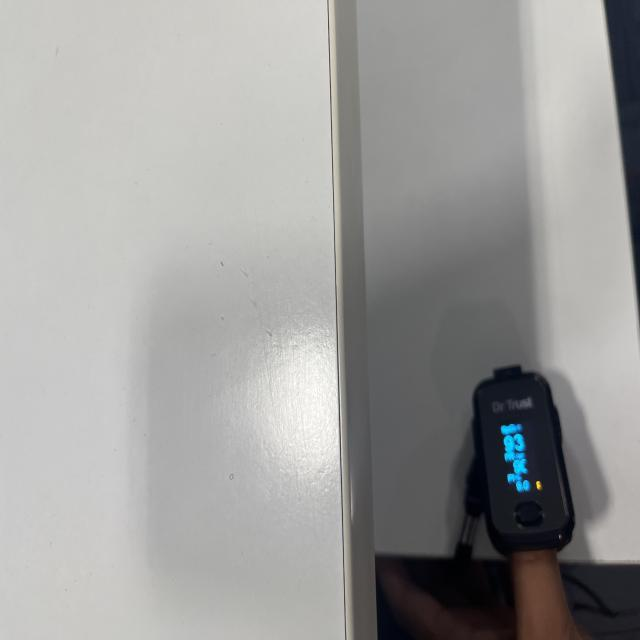bp: (473, 366, 576, 557)
